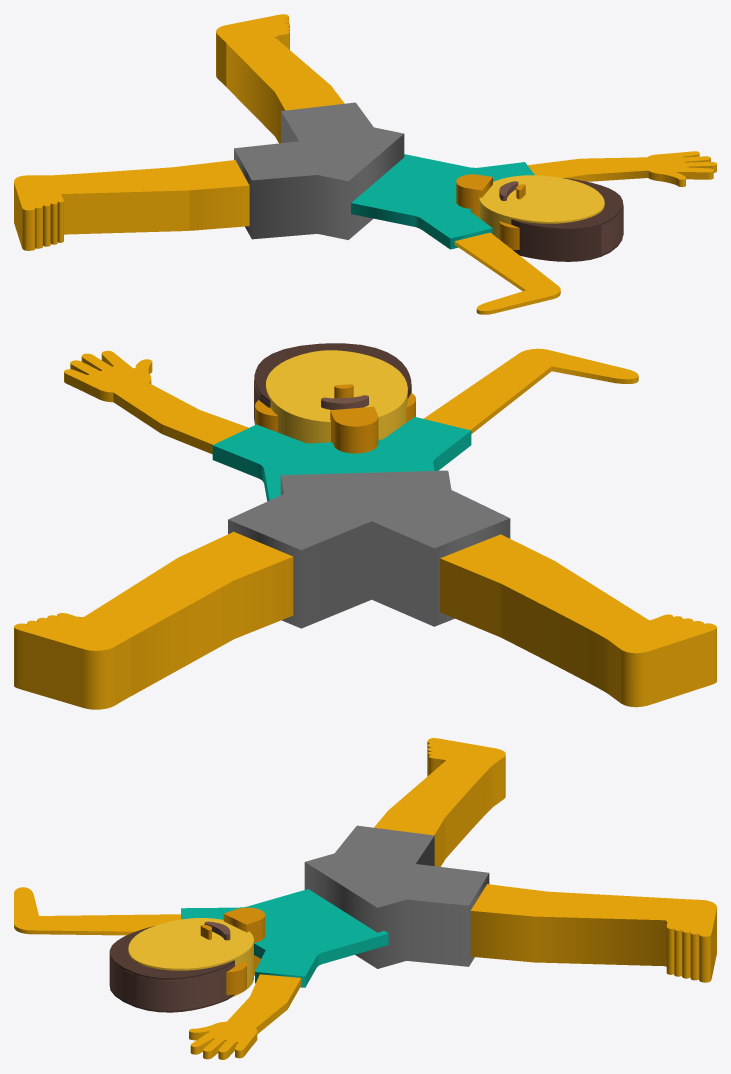
The model's file is emoji_u1f938_200d_2642.glb.
3 views of the same model, one above another, from view 1: azimuth 30°, elevation 25°; view 2: azimuth 150°, elevation 25°; view 3: azimuth 270°, elevation 25° (orthographic). The views are drawn at different scales.
Visible parts, largest first — view 1: emoji_u1f938_200d_2642; view 2: emoji_u1f938_200d_2642; view 3: emoji_u1f938_200d_2642.
Boxes of the visible parts, box(x1,y1,x2,y2) form: emoji_u1f938_200d_2642: box(14, 14, 716, 314); emoji_u1f938_200d_2642: box(14, 343, 716, 709); emoji_u1f938_200d_2642: box(14, 738, 716, 1059).
Size of the model in its own units: 0.0333 by 0.0032 by 0.0333.
